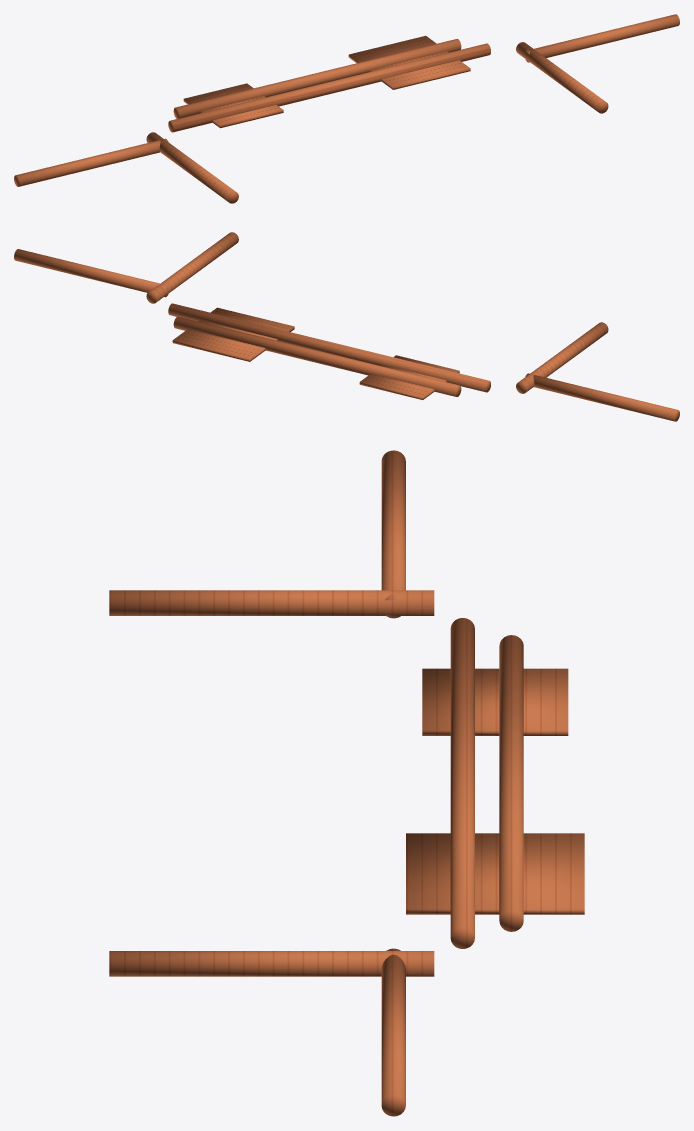
Rendered from cooling_heatpipes.obj.
3 renders of one model, top to bottom at view 1: azimuth 30°, elevation 25°; view 2: azimuth 150°, elevation 25°; view 3: azimuth 270°, elevation 25°, orthographic. The views are drawn at different scales.
Parts seen in each view (by area): view 1: cooling_heatpipes; view 2: cooling_heatpipes; view 3: cooling_heatpipes.
Boxes of the visible parts, left/top/right/bottom form: cooling_heatpipes: left=14, top=14, right=679, bottom=203; cooling_heatpipes: left=14, top=232, right=679, bottom=421; cooling_heatpipes: left=109, top=450, right=584, bottom=1116.
Size of the model in its own units: 375 by 6.4 by 117.
1 material, 1 textured.
